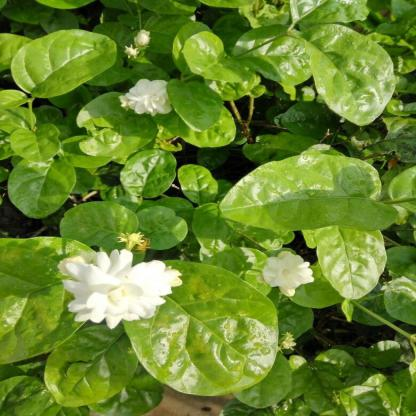Melati: (57, 233, 198, 355), (111, 75, 206, 155), (257, 247, 323, 306)
